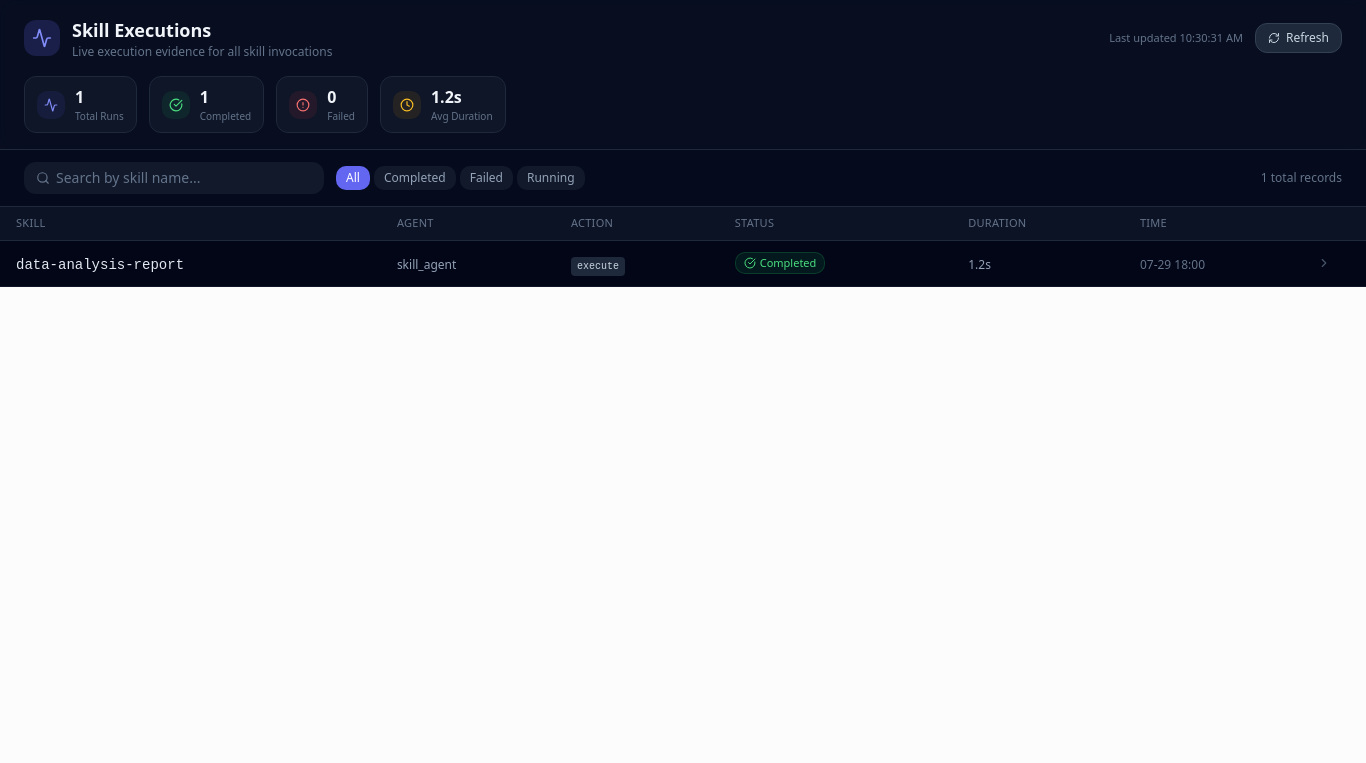
Test case: SkillExecutions dashboard — UI automation › opens the detail panel when a row is clicked
The image size is (1366, 763).
Click the skill name row
Click the text "data-analysis-report". click: (100, 265)
box: [16, 257, 184, 273]
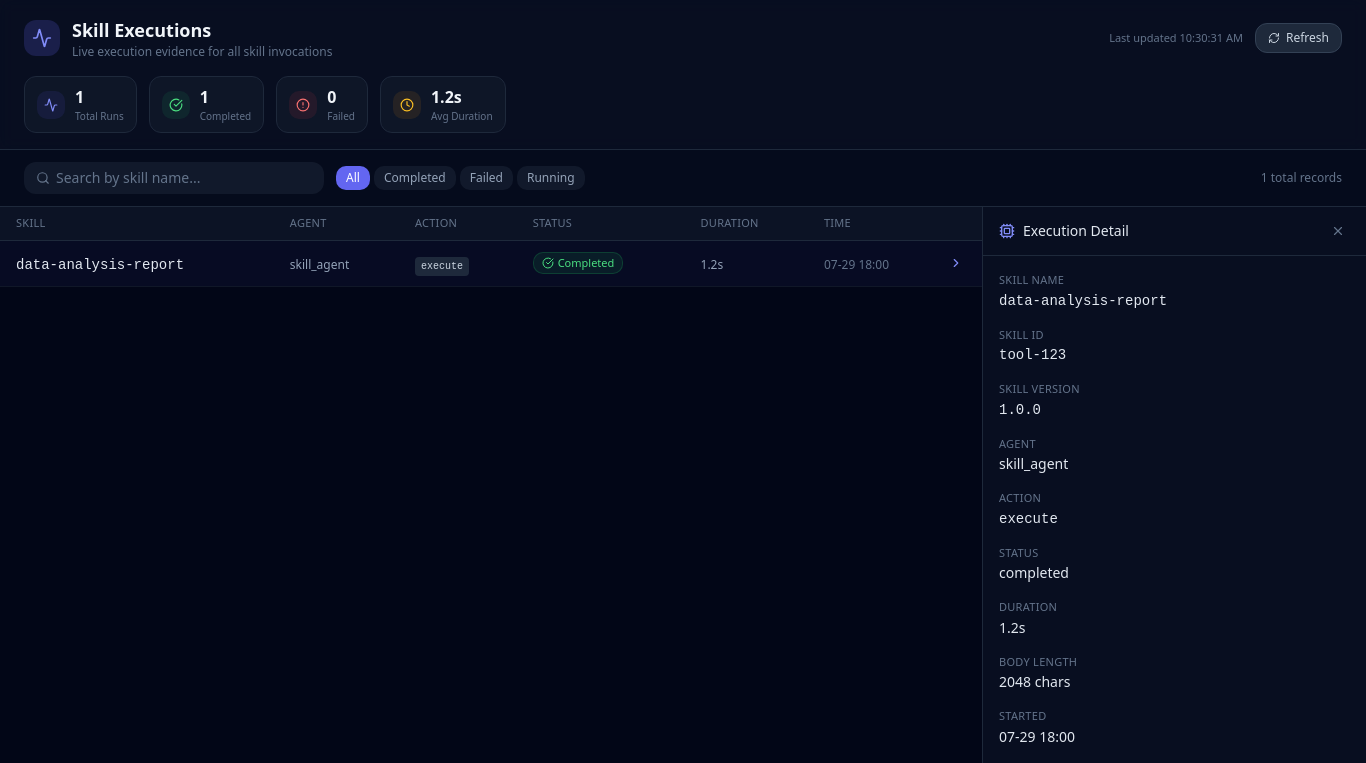
Expected: the text "Execution Detail" is shown, [1023, 221, 1129, 241]
Expected: the text "Skill ID" is shown, [999, 326, 1044, 342]
Expected: the text "tool-123" is shown, [999, 347, 1066, 363]
